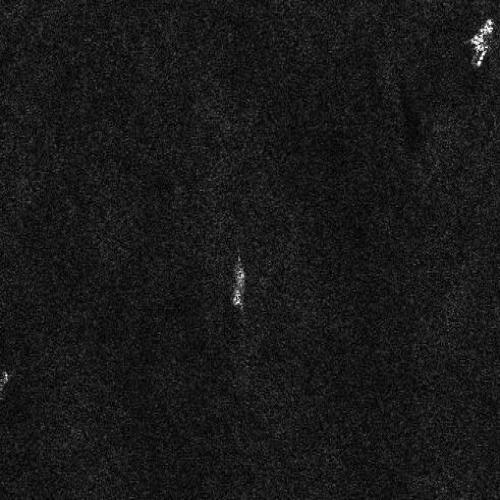ship: (470, 16, 495, 67), (233, 255, 244, 307)
